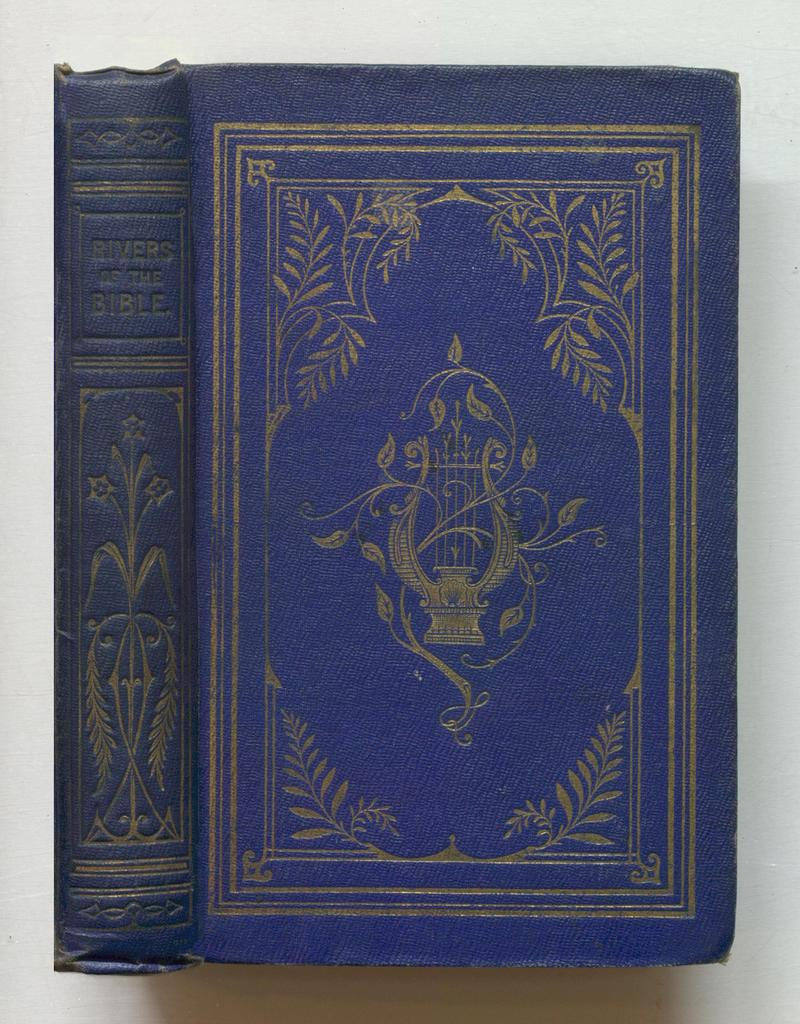book: (183, 52, 748, 960)
